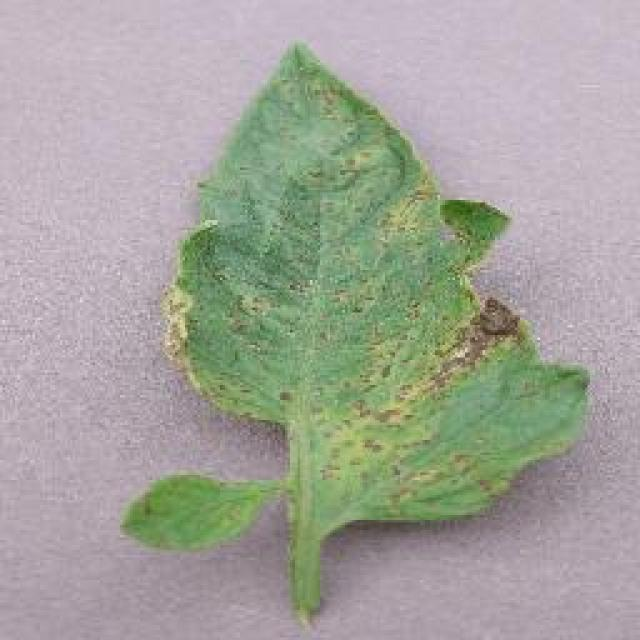Tomato___Septoria_leaf_spot: (165, 45, 588, 615), (122, 475, 278, 548)
